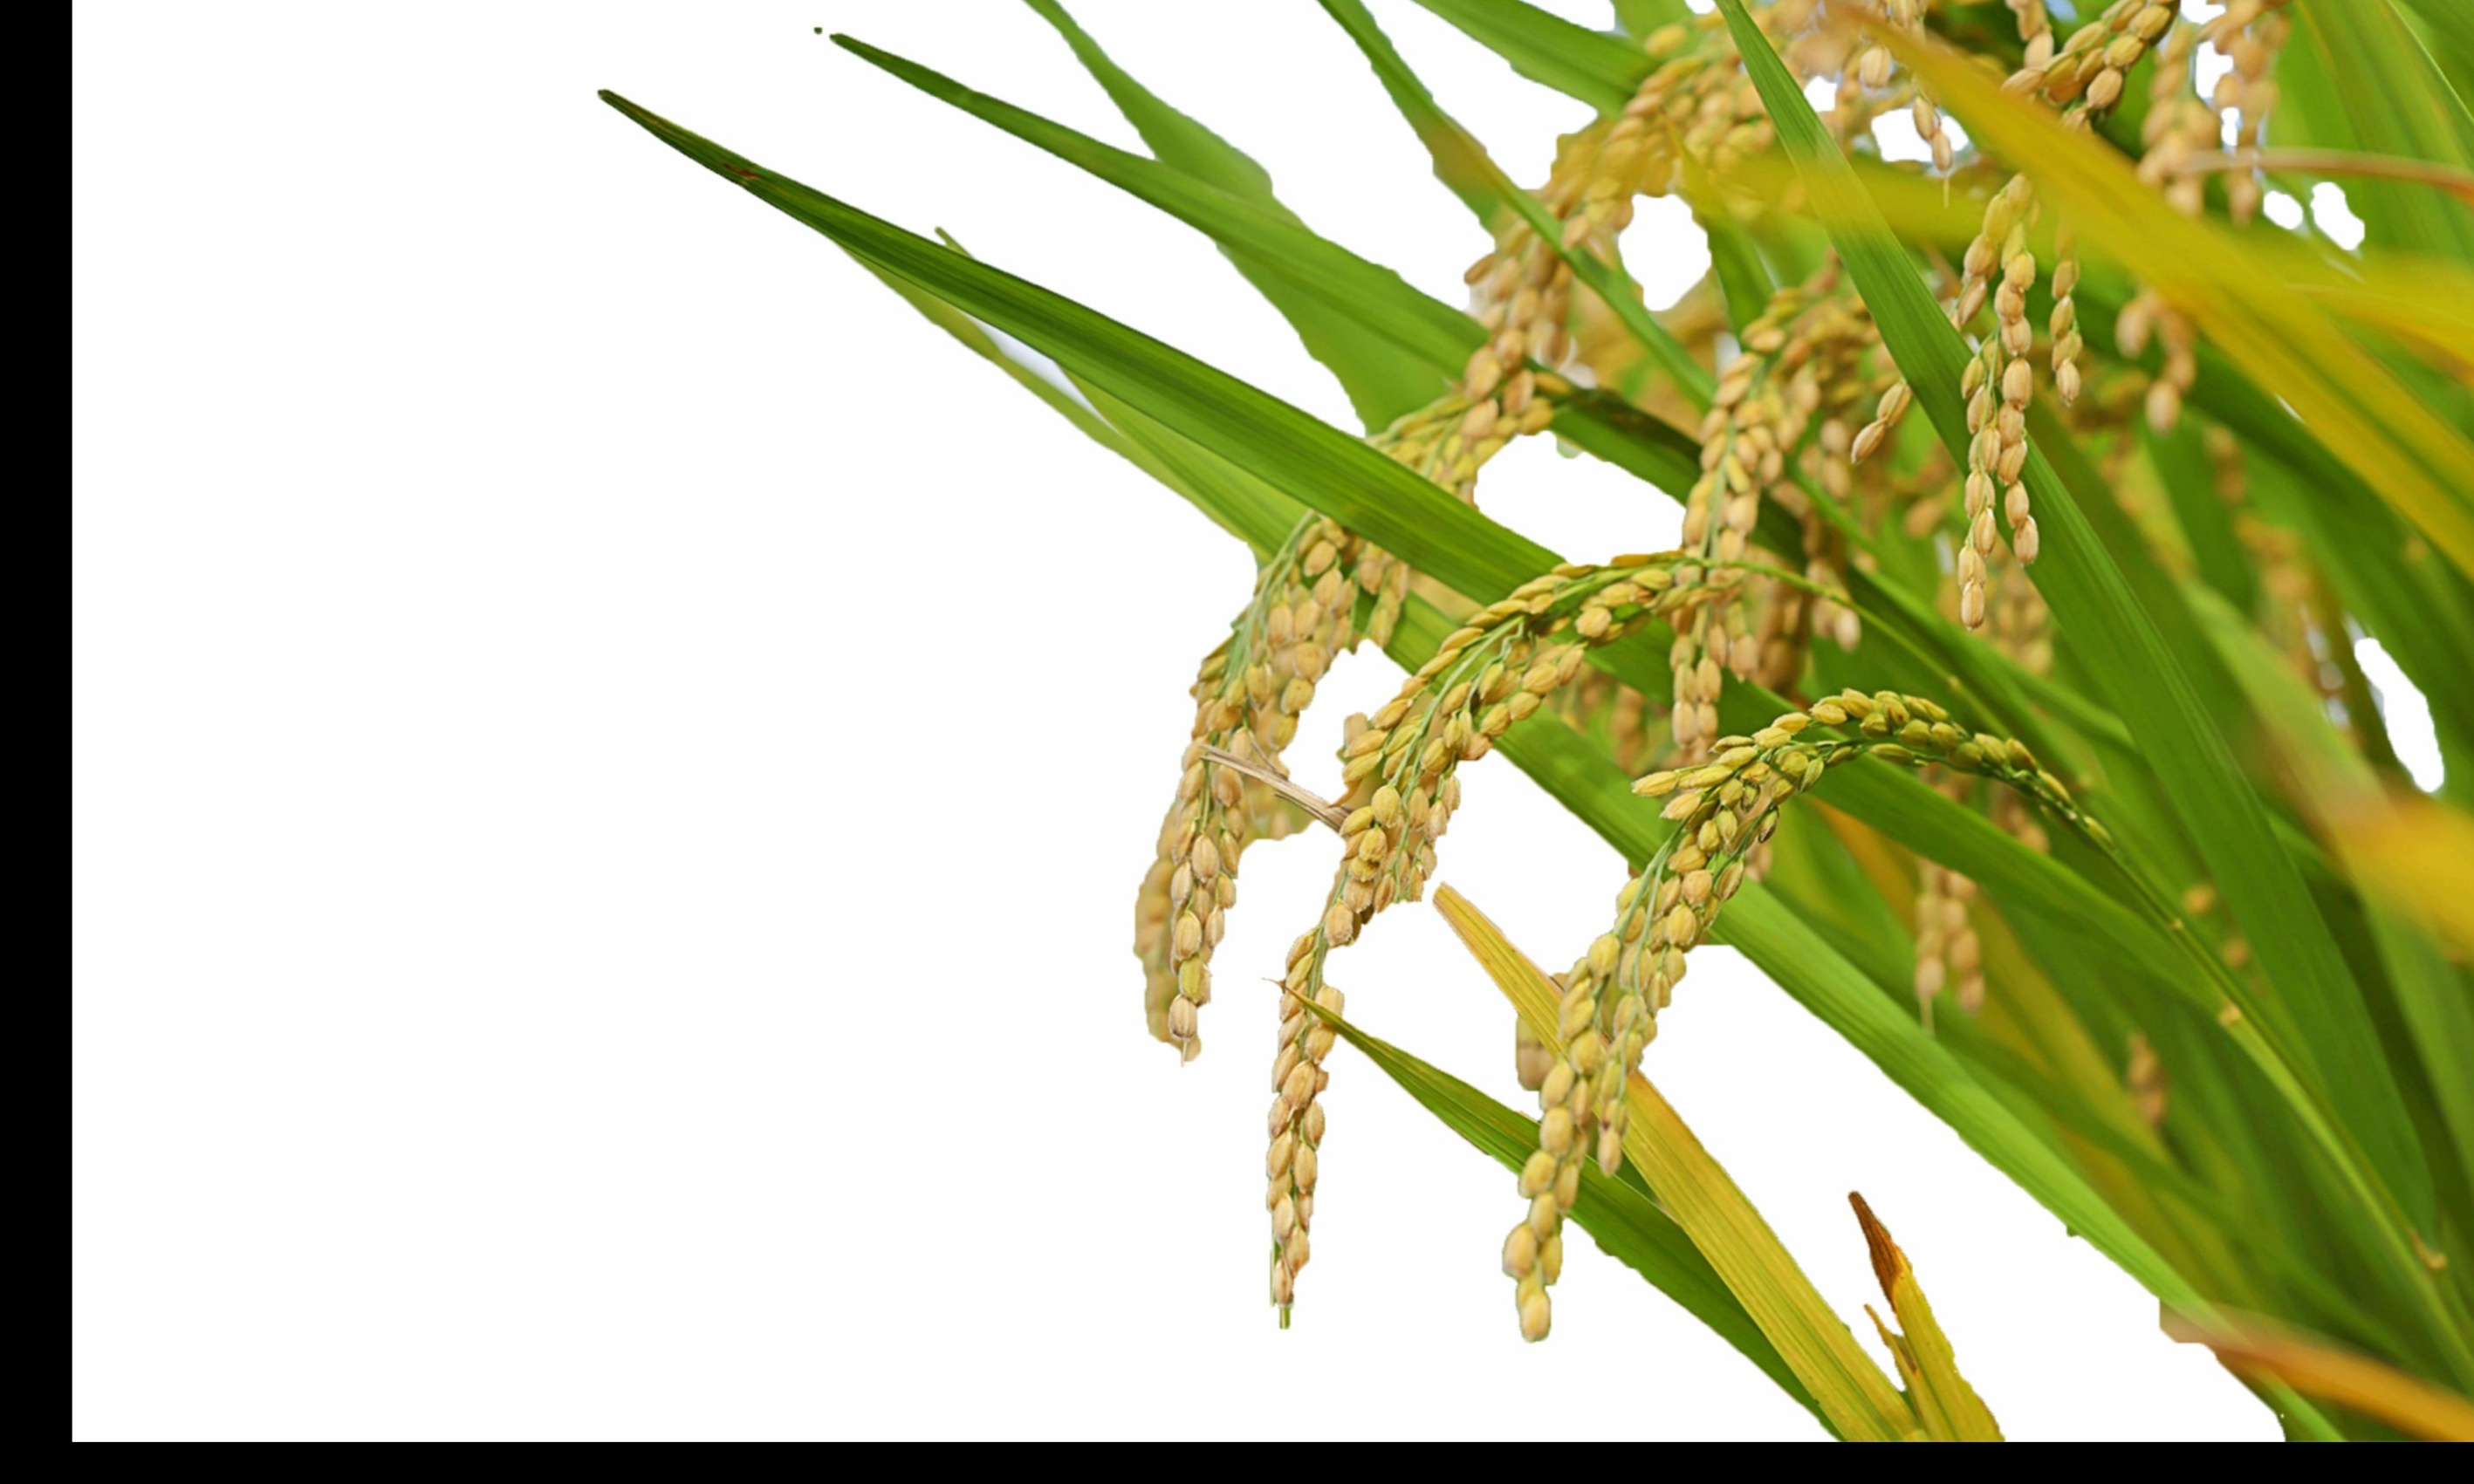rice: (1283, 518, 1894, 1316), (1514, 684, 2027, 1362), (1126, 364, 1502, 1046)
